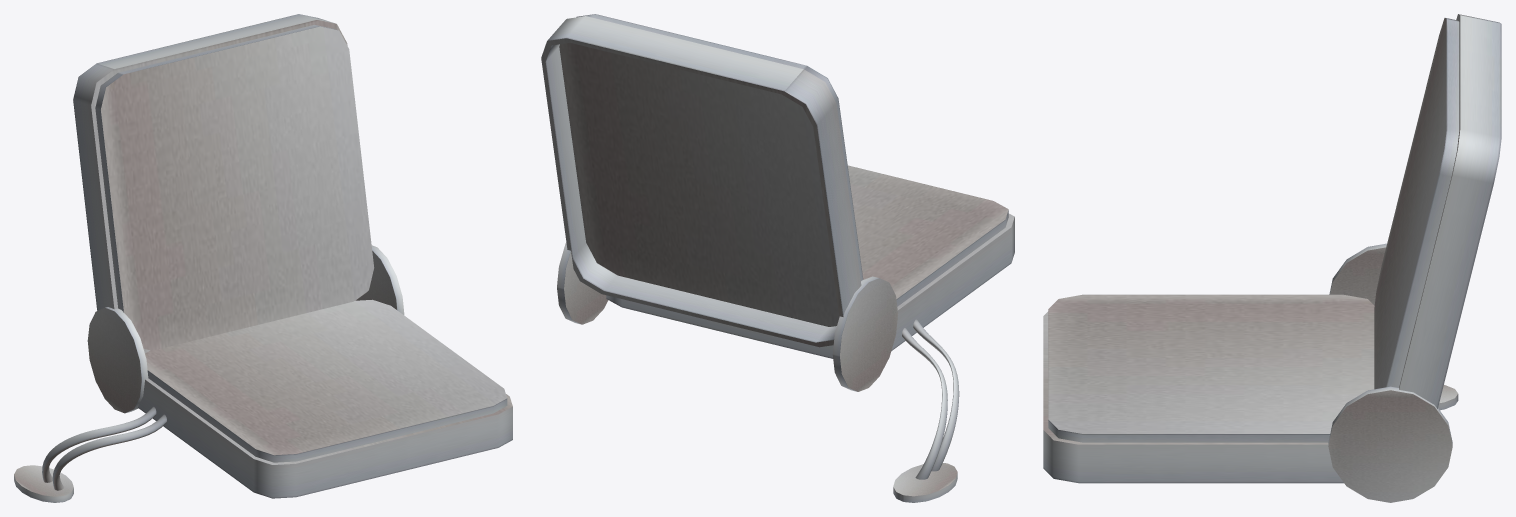
Rendered from starter-chair-01.source.glb.
3 views of the same model, side by side, from view 1: azimuth 30°, elevation 25°; view 2: azimuth 150°, elevation 25°; view 3: azimuth 270°, elevation 25° (orthographic). The views are drawn at different scales.
Visible parts, largest first — view 1: Tables; view 2: Tables; view 3: Tables.
Part boxes in pixels (<box>): Tables: <box>14,14,512,502</box>; Tables: <box>541,14,1014,502</box>; Tables: <box>1043,14,1501,502</box>.
Bounding box in the file's own units: 0.9512 × 0.9974 × 0.9491.
1 material, 1 textured.
